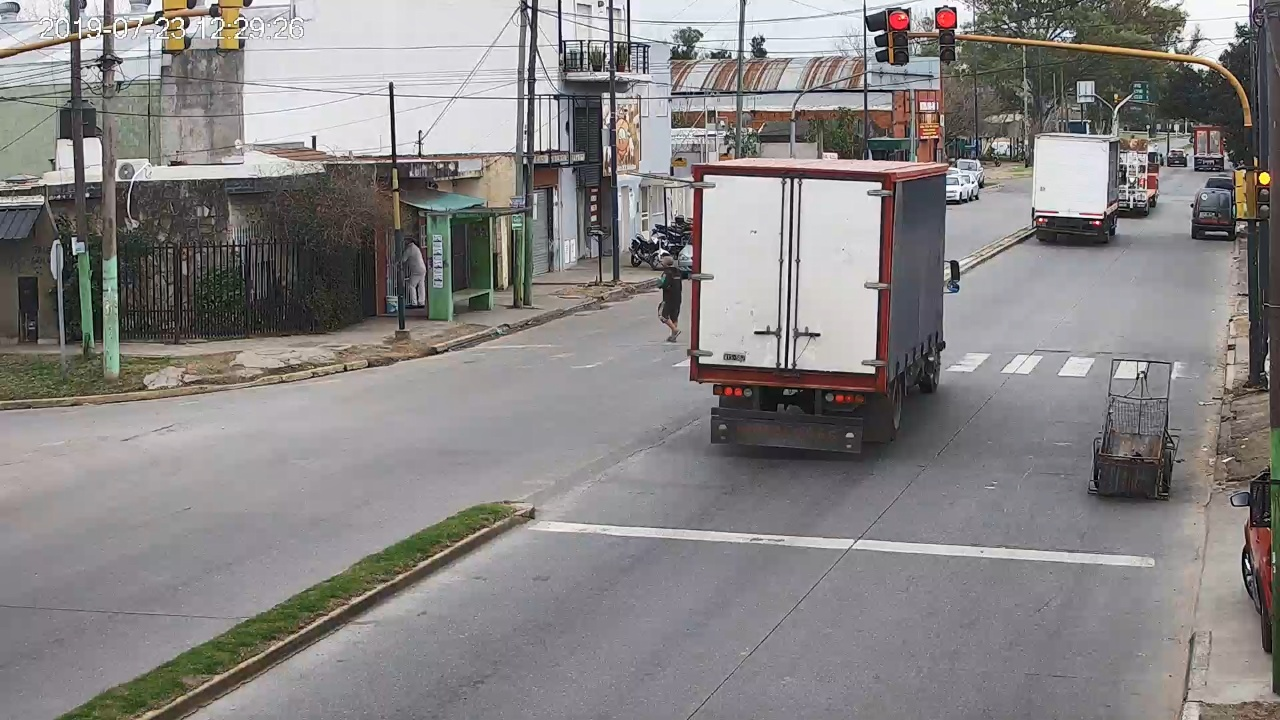traffic light: (889, 7, 909, 64), (937, 6, 957, 62), (1257, 169, 1271, 220)
truck: (690, 157, 960, 447), (1031, 134, 1125, 243)
